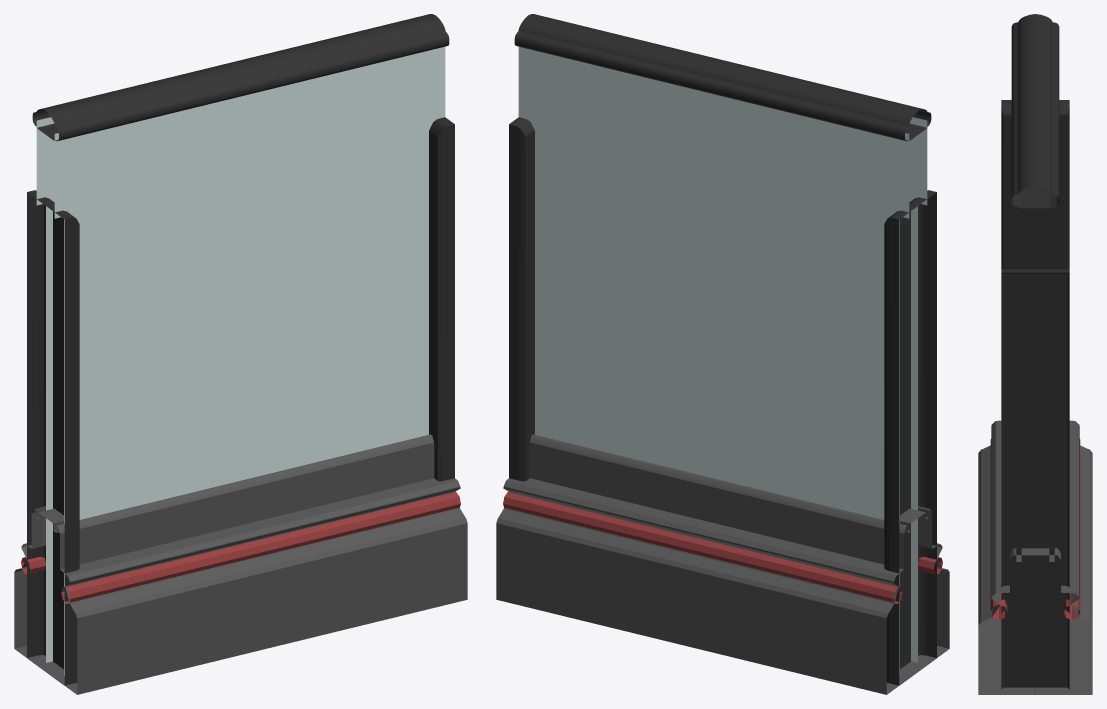
File: Barrier.fbx
The picture shows the model from 3 angles, left to right: view 1: azimuth 30°, elevation 25°; view 2: azimuth 150°, elevation 25°; view 3: azimuth 270°, elevation 25°; orthographic projection. The views are drawn at different scales.
Visible parts, largest first — view 1: Glass, BaseTrim, SideBars, Base, HandTrim, GlowRod; view 2: Glass, BaseTrim, SideBars, Base, HandTrim, GlowRod; view 3: SideBars, BaseTrim, HandTrim, GlowRod, Base.
Part boxes in pixels (x1,y1,x2,y2): Glass: [36, 46, 445, 676]; BaseTrim: [14, 478, 467, 694]; SideBars: [27, 117, 454, 685]; Base: [31, 434, 434, 569]; HandTrim: [32, 14, 449, 141]; GlowRod: [21, 492, 460, 603]; Glass: [518, 46, 927, 676]; BaseTrim: [496, 478, 949, 694]; SideBars: [509, 117, 936, 685]; Base: [529, 434, 932, 569]; HandTrim: [514, 14, 931, 141]; GlowRod: [503, 492, 942, 603]; SideBars: [1001, 100, 1069, 694]; BaseTrim: [978, 420, 1092, 694]; HandTrim: [1011, 14, 1059, 208]; GlowRod: [990, 439, 1080, 619]; Base: [1010, 548, 1060, 561].
Bounding box in the file's own units: 3 × 4.12 × 0.8378.
